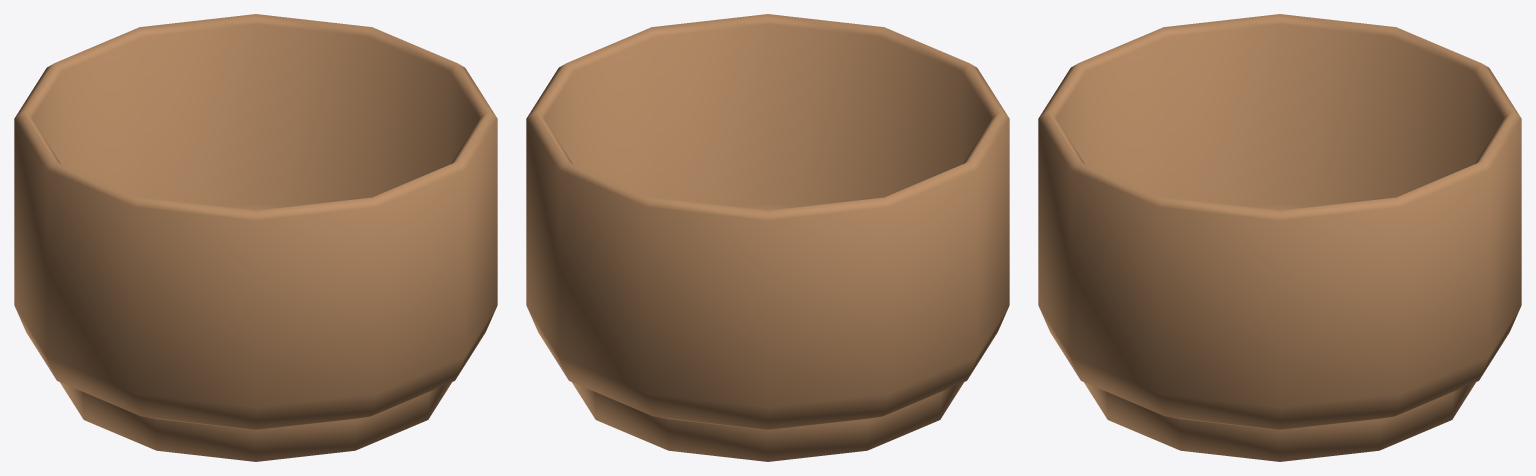
File: bowl_05.glb
3 views of the same model, side by side, from view 1: azimuth 30°, elevation 25°; view 2: azimuth 150°, elevation 25°; view 3: azimuth 270°, elevation 25° (orthographic).
Parts seen in each view (by area): view 1: bowl.05; view 2: bowl.05; view 3: bowl.05.
Boxes of the visible parts, x1,y1,x2,y2 form: bowl.05: (14,14,497,461); bowl.05: (526,14,1009,461); bowl.05: (1038,14,1521,461).
Bounding box in the file's own units: 0.3113 × 0.1887 × 0.3113.
Materials: 1 (1 with a texture image).
